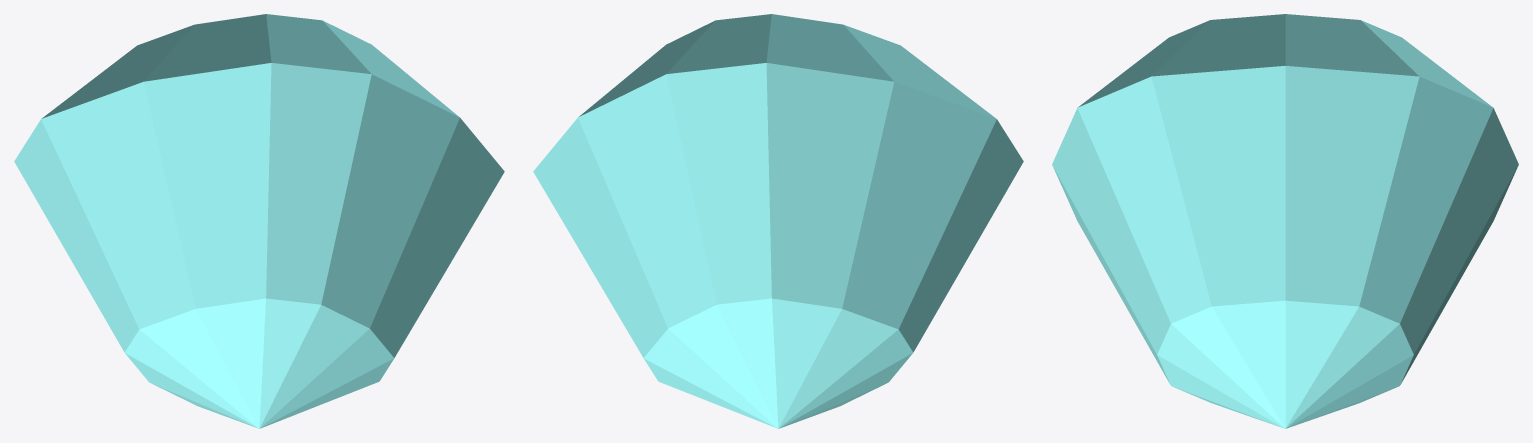
The model's file is topaz.glb.
3 renders of one model, left to right at view 1: azimuth 30°, elevation 25°; view 2: azimuth 150°, elevation 25°; view 3: azimuth 270°, elevation 25°, orthographic.
Bounding box in the file's own units: 0.25 × 0.2125 × 0.25.
